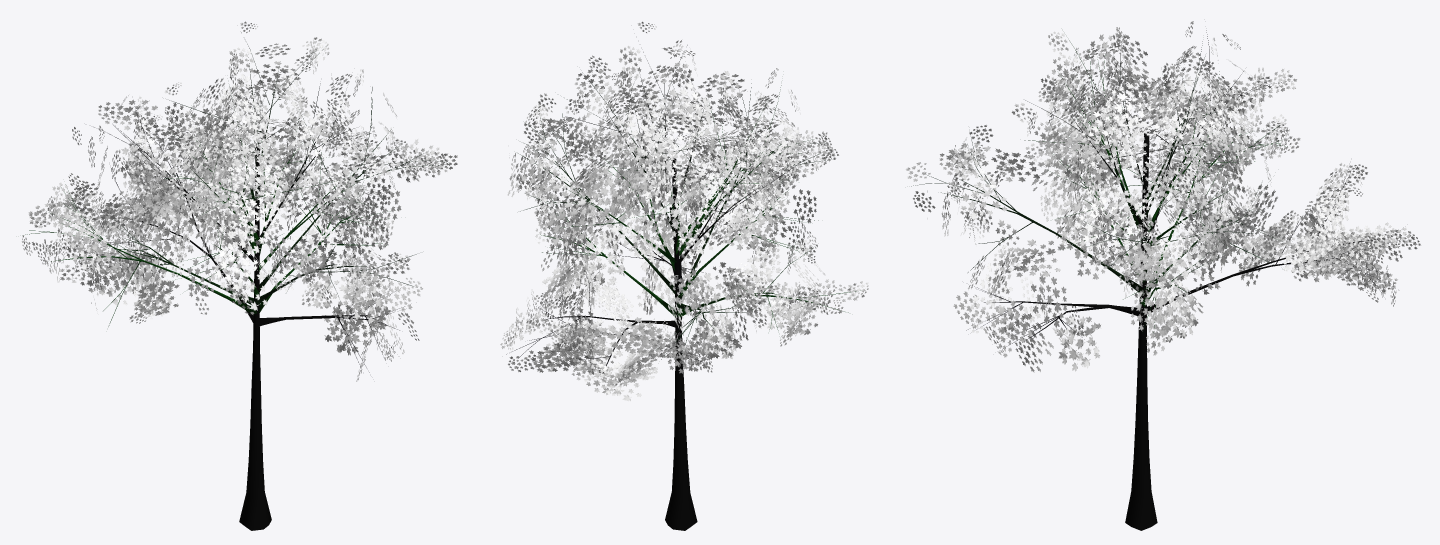
File: Tree_Blender_000.fbx
3 renders of one model, left to right at view 1: azimuth 30°, elevation 25°; view 2: azimuth 150°, elevation 25°; view 3: azimuth 270°, elevation 25°, orthographic. The views are drawn at different scales.
Parts seen in each view (by area): view 1: leafclumpatlas_1, _0; view 2: leafclumpatlas_1, _0; view 3: leafclumpatlas_1, _0.
Boxes of the visible parts, <box> form: leafclumpatlas_1: <box>22,21,457,381</box>; _0: <box>25,32,446,530</box>; leafclumpatlas_1: <box>500,21,868,401</box>; _0: <box>506,45,860,530</box>; leafclumpatlas_1: <box>906,21,1420,372</box>; _0: <box>911,30,1406,530</box>.
Size of the model in its own units: 490 by 618 by 582.
